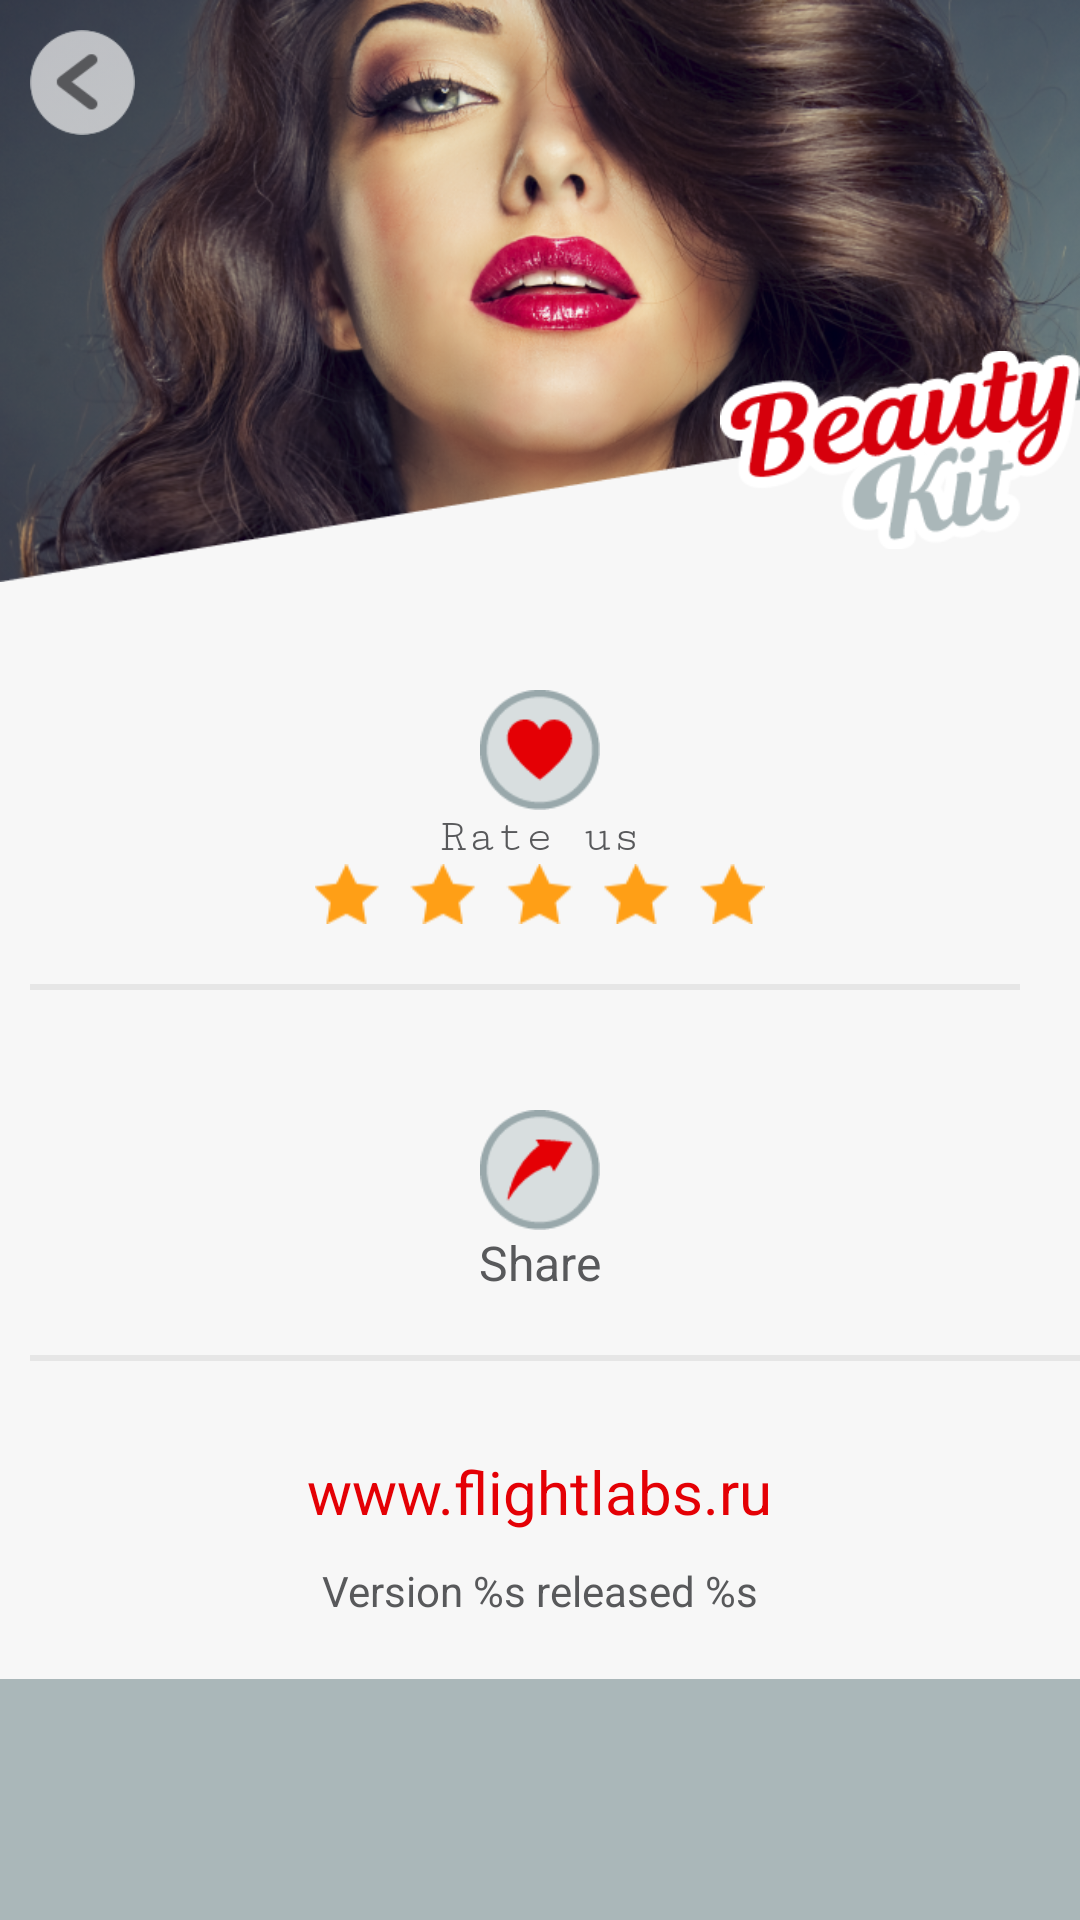

Icons on this 1080*1920 Android screen, each with the point to tap as [x,y]:
back: [82,82]
like: [540,750]
